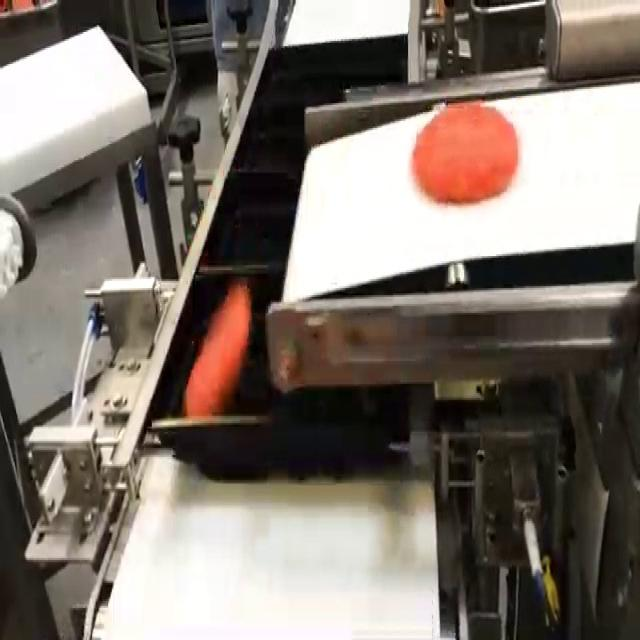hamburguer: (411, 103, 518, 203)
